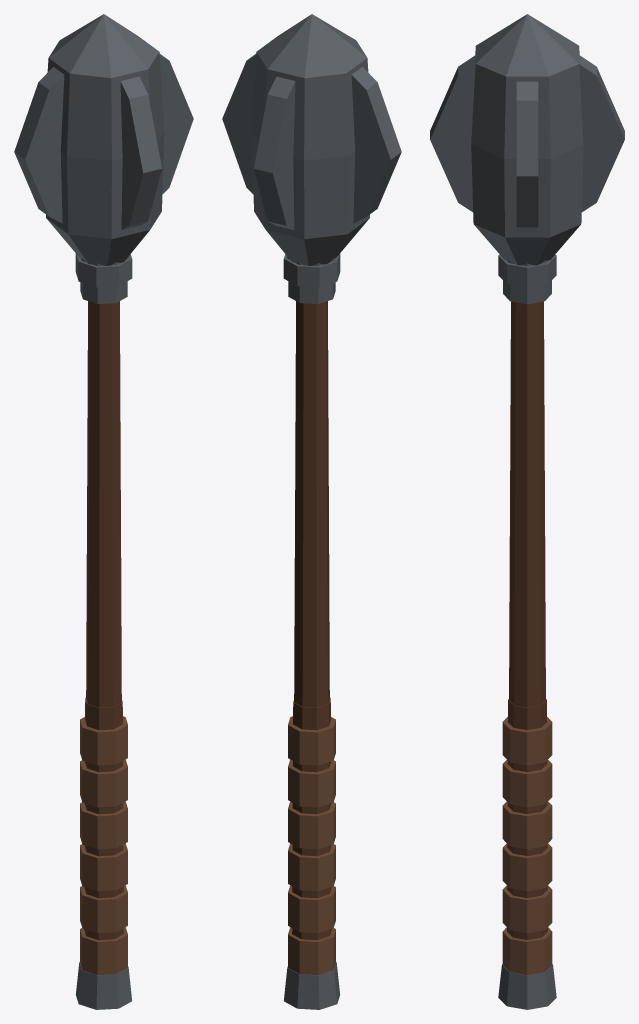
The model's file is WP_Mace_04.glb.
3 views of the same model, side by side, from view 1: azimuth 30°, elevation 25°; view 2: azimuth 150°, elevation 25°; view 3: azimuth 270°, elevation 25° (orthographic).
Parts seen in each view (by area): view 1: WP_Mace_04; view 2: WP_Mace_04; view 3: WP_Mace_04.
Part boxes in pixels (x1=…): WP_Mace_04: x1=14, y1=14, x2=193, y2=1009; WP_Mace_04: x1=222, y1=14, x2=401, y2=1009; WP_Mace_04: x1=430, y1=14, x2=624, y2=1009.
Size of the model in its own units: 0.16 by 0.892 by 0.16.
